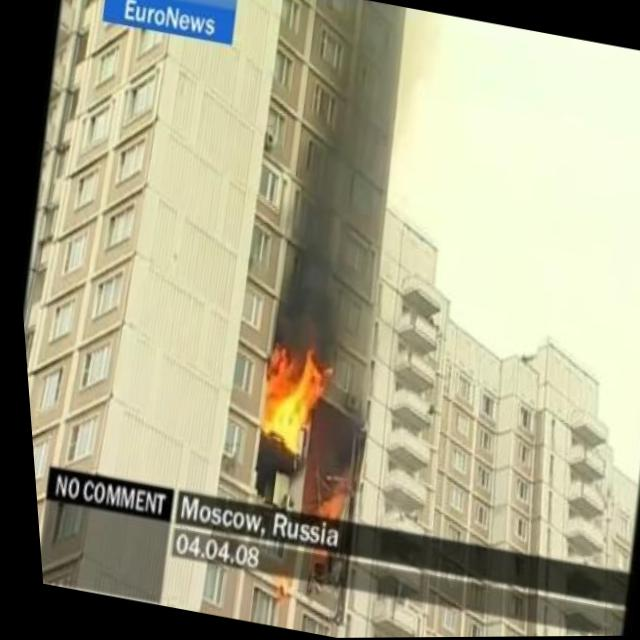fire: (239, 334, 339, 465), (304, 481, 348, 521)
